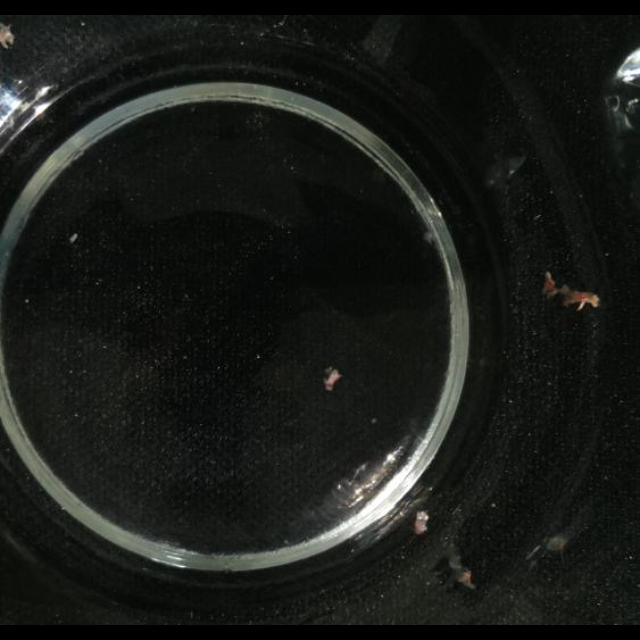Fragment: (542, 271, 600, 311), (434, 549, 476, 591), (320, 368, 340, 392), (412, 510, 430, 534)
microbeads: (70, 233, 78, 244)
